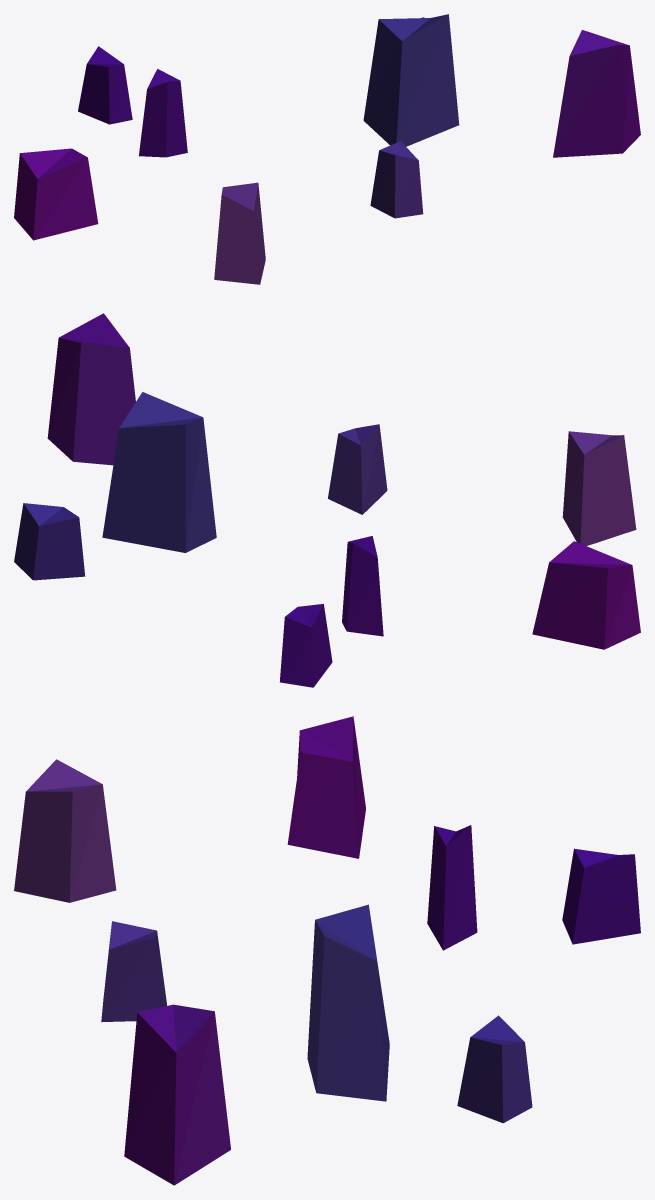
The model's file is SM_CinderCanyon_Debris_LOD1.fbx.
3 renders of one model, top to bottom at view 1: azimuth 30°, elevation 25°; view 2: azimuth 150°, elevation 25°; view 3: azimuth 270°, elevation 25°, orthographic. The views are drawn at different scales.
Parts seen in each view (by area): view 1: SM_CinderCanyon_Debris_LOD1; view 2: SM_CinderCanyon_Debris_LOD1; view 3: SM_CinderCanyon_Debris_LOD1.
Boxes of the visible parts, box(x1,y1,x2,y2) form: SM_CinderCanyon_Debris_LOD1: box(14, 14, 640, 284); SM_CinderCanyon_Debris_LOD1: box(14, 313, 640, 687); SM_CinderCanyon_Debris_LOD1: box(14, 716, 640, 1185).
Bounding box in the file's own units: 100 × 70 × 20.
